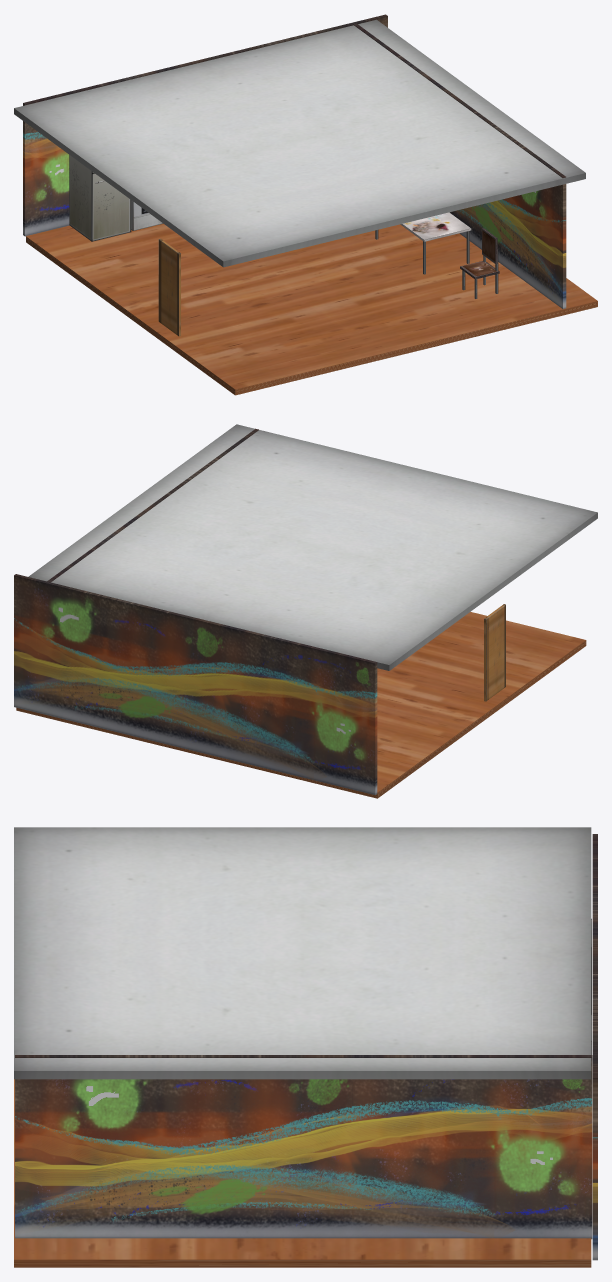
File: KitchenAssets.Final.fbx
3 views of the same model, one above another, from view 1: azimuth 30°, elevation 25°; view 2: azimuth 150°, elevation 25°; view 3: azimuth 270°, elevation 25° (orthographic). The views are drawn at different scales.
Visible parts, largest first — view 1: Ceiling, Floor, Wall, Wall2, Fridge1, Door1, Table, Chair, Stove; view 2: Ceiling, Wall2, Floor, Door1, Wall; view 3: Ceiling, Wall, Floor, Wall2.
Boxes of the visible parts, x1=… form: Ceiling: x1=14, y1=19, x2=585, y2=267; Floor: x1=26, y1=223, x2=597, y2=395; Wall: x1=353, y1=23, x2=566, y2=308; Wall2: x1=23, y1=14, x2=387, y2=236; Fridge1: x1=69, y1=155, x2=131, y2=241; Door1: x1=158, y1=238, x2=180, y2=336; Table: x1=375, y1=212, x2=471, y2=274; Chair: x1=460, y1=228, x2=499, y2=298; Stove: x1=131, y1=200, x2=162, y2=230; Ceiling: x1=28, y1=424, x2=597, y2=670; Wall2: x1=14, y1=574, x2=377, y2=795; Floor: x1=16, y1=612, x2=586, y2=798; Door1: x1=484, y1=604, x2=505, y2=701; Wall: x1=47, y1=428, x2=258, y2=582; Ceiling: x1=14, y1=827, x2=591, y2=1079; Wall: x1=15, y1=1055, x2=592, y2=1239; Floor: x1=14, y1=1079, x2=591, y2=1267; Wall2: x1=592, y1=834, x2=597, y2=1260.
Bounding box in the file's own units: 7.95 × 2.79 × 7.79.
